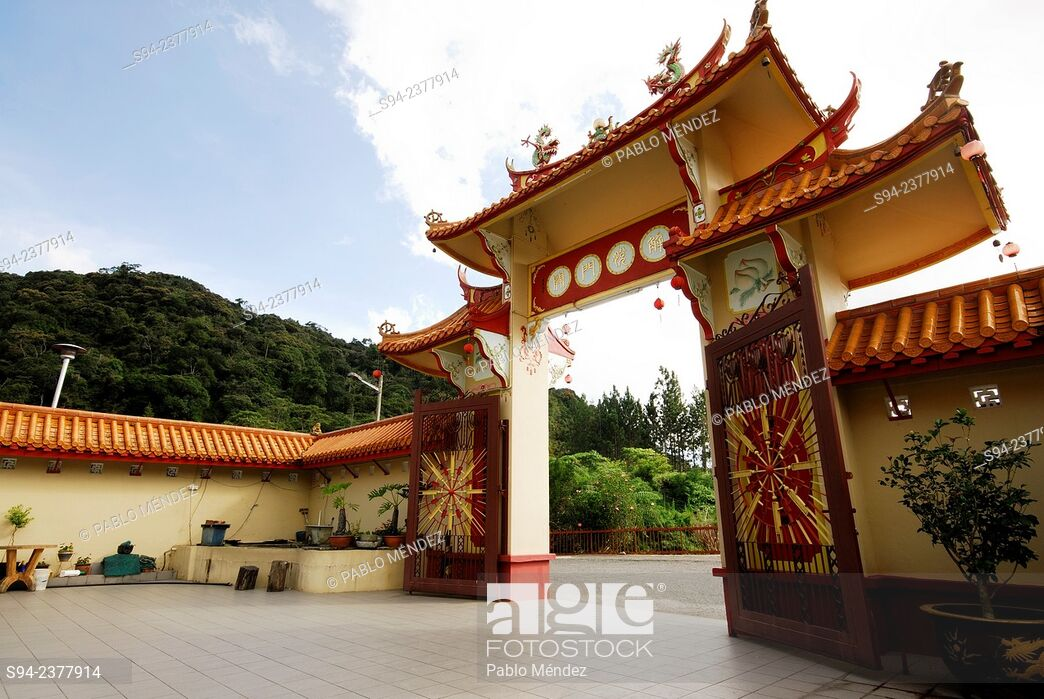Buddhist Temple: (428, 56, 962, 556)
